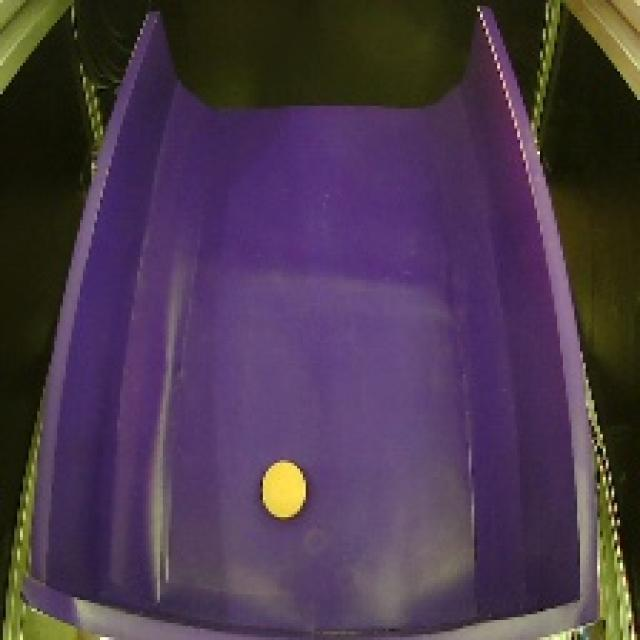small: (256, 458, 316, 522)
